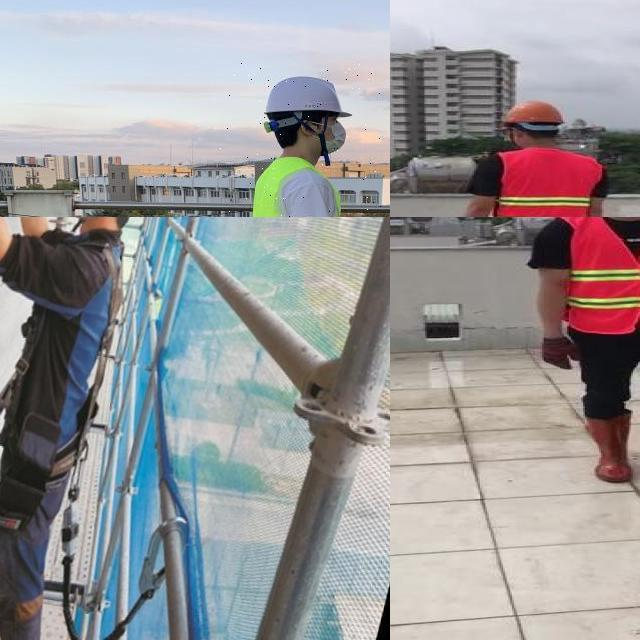Harness: (103, 517, 186, 640), (64, 503, 87, 640)
boots: (583, 414, 635, 483)
hand_glove: (540, 335, 582, 371)
head_helmet: (264, 76, 354, 118), (500, 99, 564, 124)
person: (533, 217, 640, 494), (216, 62, 386, 217), (445, 96, 609, 217)
vest: (563, 217, 640, 330), (497, 150, 596, 217), (247, 157, 345, 217)
